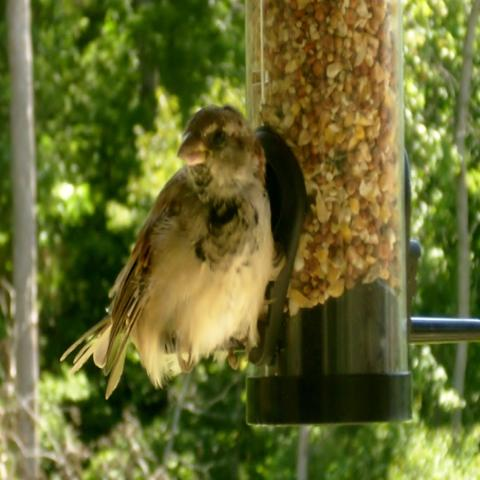bird: (59, 101, 286, 400)
